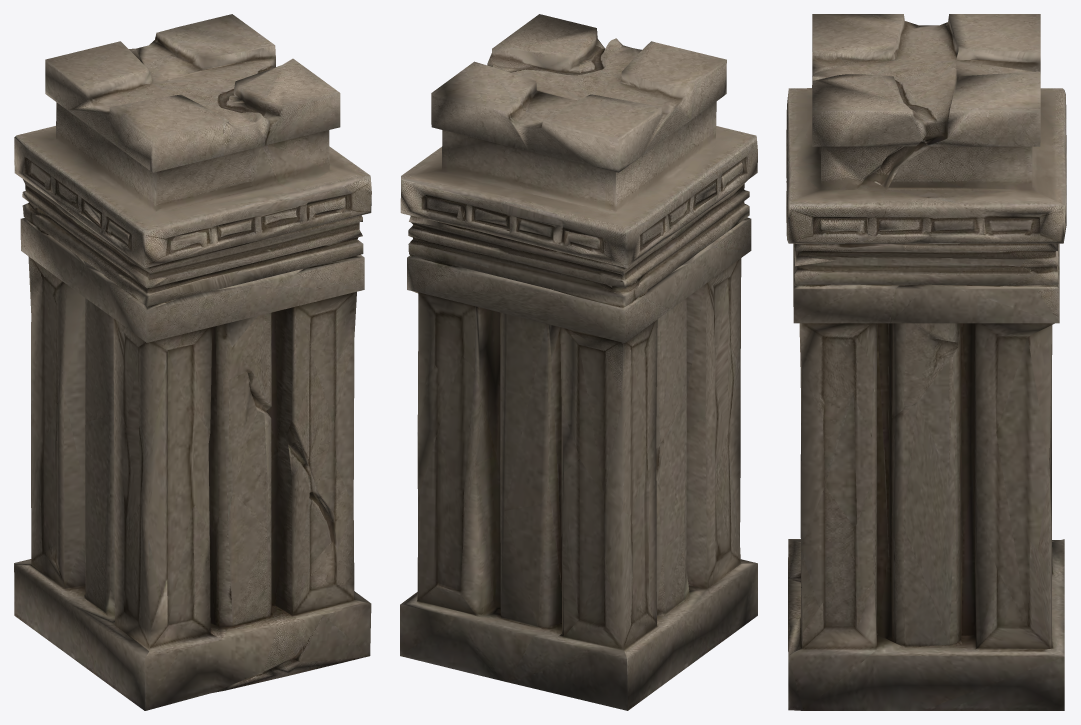
Rendered from pillar.glb.
3 renders of one model, left to right at view 1: azimuth 30°, elevation 25°; view 2: azimuth 150°, elevation 25°; view 3: azimuth 270°, elevation 25°, orthographic. The views are drawn at different scales.
Bounding box in the file's own units: 0.8185 × 1.9 × 0.8178.
1 material, 1 textured.
